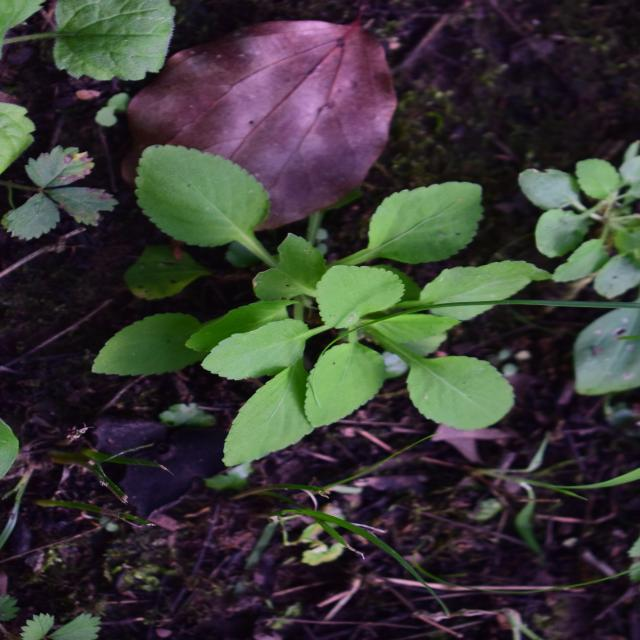Viola: (167, 114, 453, 531)
